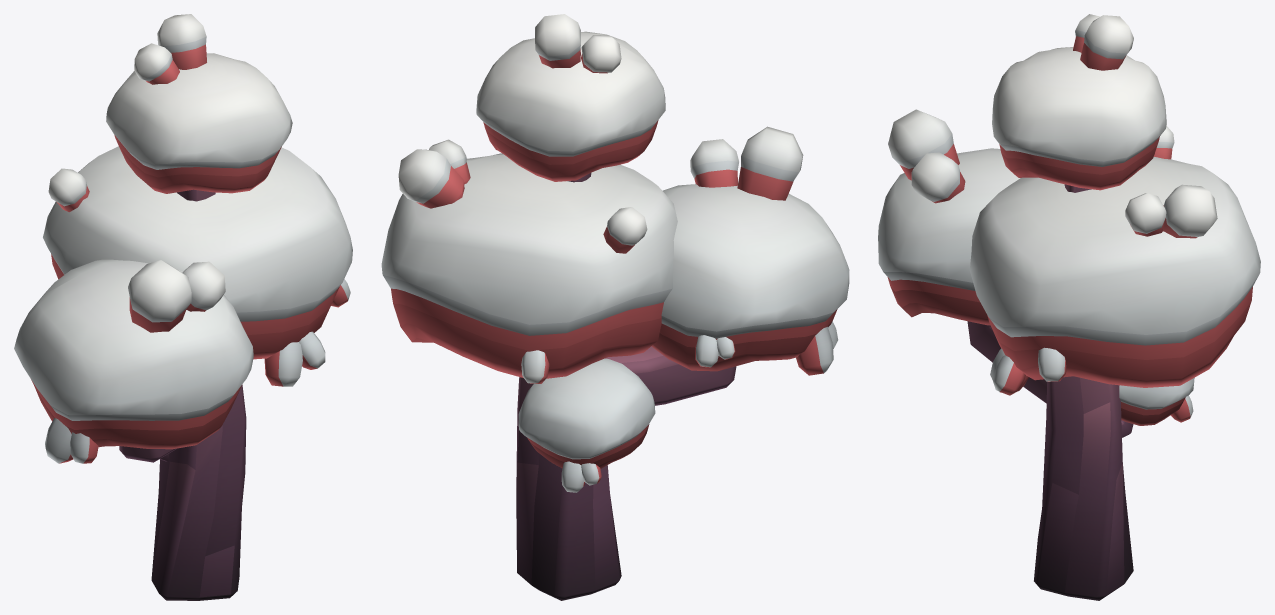
The model's file is grassland_tree_col3_5_snow.fbx.
3 views of the same model, side by side, from view 1: azimuth 30°, elevation 25°; view 2: azimuth 150°, elevation 25°; view 3: azimuth 270°, elevation 25° (orthographic). The views are drawn at different scales.
Parts seen in each view (by area): view 1: grassland_tree_col3_5_snow; view 2: grassland_tree_col3_5_snow; view 3: grassland_tree_col3_5_snow.
Boxes of the visible parts, x1,y1,x2,y2 form: grassland_tree_col3_5_snow: [14, 14, 352, 600]; grassland_tree_col3_5_snow: [381, 14, 849, 600]; grassland_tree_col3_5_snow: [878, 14, 1260, 600].
Size of the model in its own units: 673 by 1035 by 635.
